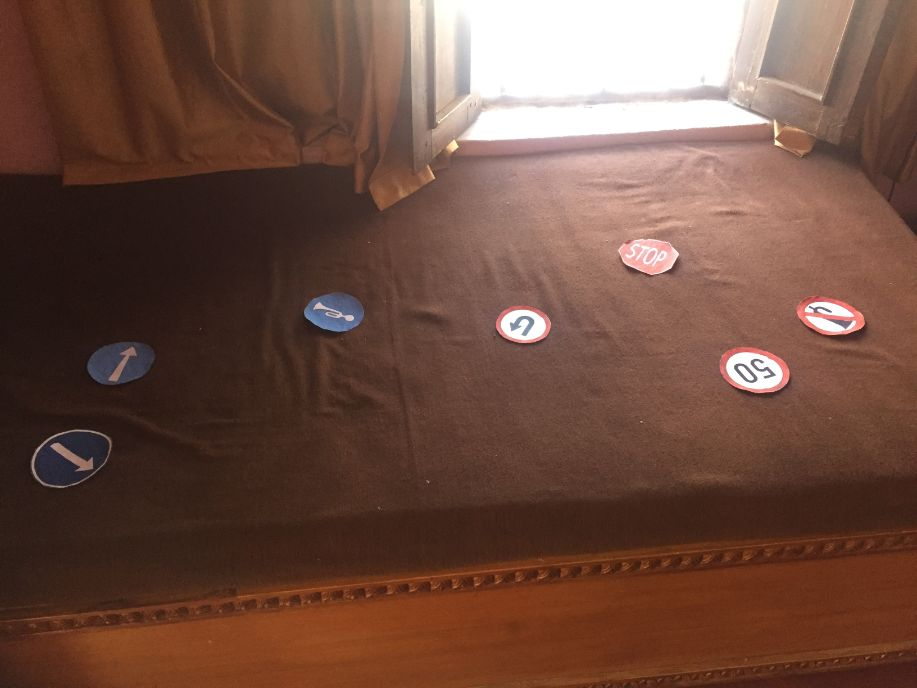blow-horn: (305, 288, 368, 334)
go-stright: (32, 428, 113, 490)
keep-left: (87, 343, 158, 388)
no-horn: (798, 294, 865, 336)
speed-50: (718, 349, 793, 396)
stop: (616, 238, 681, 277)
u-turn: (496, 304, 554, 344)
